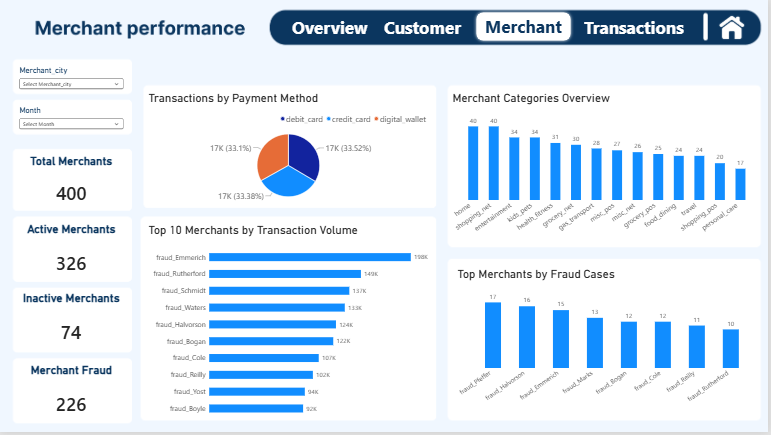

The page's visual inventory and layout, read from the dashboard file:
{"tool":"powerbi","page":{"name":"Merchant page","canvas":[1920,1080],"ordinal":3},"visuals":[{"type":"shape","box":[1182.5,22.5,252.5,87.5],"z":0},{"type":"image","box":[1788.7,19.3,84.7,97.3],"z":1000},{"type":"textbox","box":[728.8,38.8,222.5,57.5],"z":1001},{"type":"textbox","box":[960,38.8,222.5,57.5],"z":1002},{"type":"textbox","box":[1460,38.8,265,57.5],"z":1003},{"type":"cardVisual","title":"Total Merchants","fields":{"Data":["Dax measure.number_merchants"]},"box":[33.3,385,291.7,141.7],"z":1004},{"type":"cardVisual","title":"Inactive Merchants","fields":{"Data":["Dax measure.Inactive_Merchants"]},"box":[33.3,728.3,291.7,151.7],"z":1005},{"type":"cardVisual","title":"Active Merchants","fields":{"Data":["Dax measure.Active_Merchants"]},"box":[33.3,555,291.7,151.7],"z":1006},{"type":"cardVisual","title":"Merchant Fraud","fields":{"Data":["Dax measure.Merchant_Fraud"]},"box":[33.3,908.3,291.7,151.7],"z":1007},{"type":"listSlicer","fields":{"Values":["Gold DimMerchant.Merchant_city"]},"box":[33,150,292,83],"z":1008},{"type":"listSlicer","fields":{"Values":["Gold DimDate.Full_date.Variation.Date Hierarchy.Month"]},"box":[33,251,292,82],"z":1009},{"type":"pieChart","title":"Transactions by Payment Method","fields":{"Category":["Gold DimTransaction.Payment_method"],"Y":["Dax measure.number_transaction"]},"box":[354,214,732,314],"z":1010},{"type":"clusteredBarChart","title":"Top 10 Merchants by Transaction Volume","fields":{"Category":["Gold DimMerchant.Merchant_name"],"Y":["Dax measure.transaction_amount"]},"box":[354,544,732,520],"z":1011},{"type":"columnChart","title":"Merchant Categories Overview","fields":{"Category":["Gold DimMerchant.Dominant_category"],"Y":["Dax measure.number_merchants"]},"box":[1114,214,786,402],"z":1012},{"type":"columnChart","title":"Top Merchants by Fraud Cases","fields":{"Category":["Gold DimMerchant.Merchant_name"],"Y":["Dax measure.Total_Fraud_Cases"]},"box":[1128,654,772,388],"z":1013}]}

Visuals, with their boxes in screenshot pixels (x1, y1, x2, y2), scaled from the page's 1920x1080 canvas onto the 771x435 screenshot:
shape: {"left": 475, "top": 9, "right": 576, "bottom": 44}
image: {"left": 718, "top": 8, "right": 752, "bottom": 47}
textbox: {"left": 293, "top": 16, "right": 382, "bottom": 39}
textbox: {"left": 386, "top": 16, "right": 475, "bottom": 39}
textbox: {"left": 586, "top": 16, "right": 693, "bottom": 39}
"Total Merchants" cardVisual: {"left": 13, "top": 155, "right": 131, "bottom": 212}
"Inactive Merchants" cardVisual: {"left": 13, "top": 293, "right": 131, "bottom": 354}
"Active Merchants" cardVisual: {"left": 13, "top": 224, "right": 131, "bottom": 285}
"Merchant Fraud" cardVisual: {"left": 13, "top": 366, "right": 131, "bottom": 427}
listSlicer - Gold DimMerchant.Merchant_city: {"left": 13, "top": 60, "right": 131, "bottom": 94}
listSlicer - Gold DimDate.Full_date.Variation.Date Hierarchy.Month: {"left": 13, "top": 101, "right": 131, "bottom": 134}
"Transactions by Payment Method" pieChart: {"left": 142, "top": 86, "right": 436, "bottom": 213}
"Top 10 Merchants by Transaction Volume" clusteredBarChart: {"left": 142, "top": 219, "right": 436, "bottom": 429}
"Merchant Categories Overview" columnChart: {"left": 447, "top": 86, "right": 763, "bottom": 248}
"Top Merchants by Fraud Cases" columnChart: {"left": 453, "top": 263, "right": 763, "bottom": 420}
